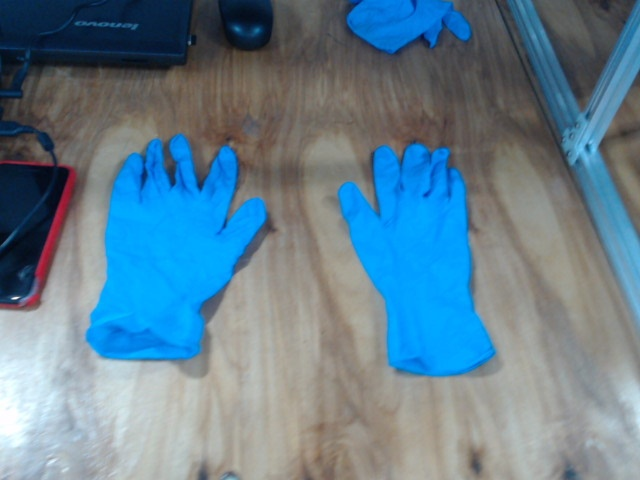medical_glove: (87, 134, 266, 358), (339, 145, 496, 374)
